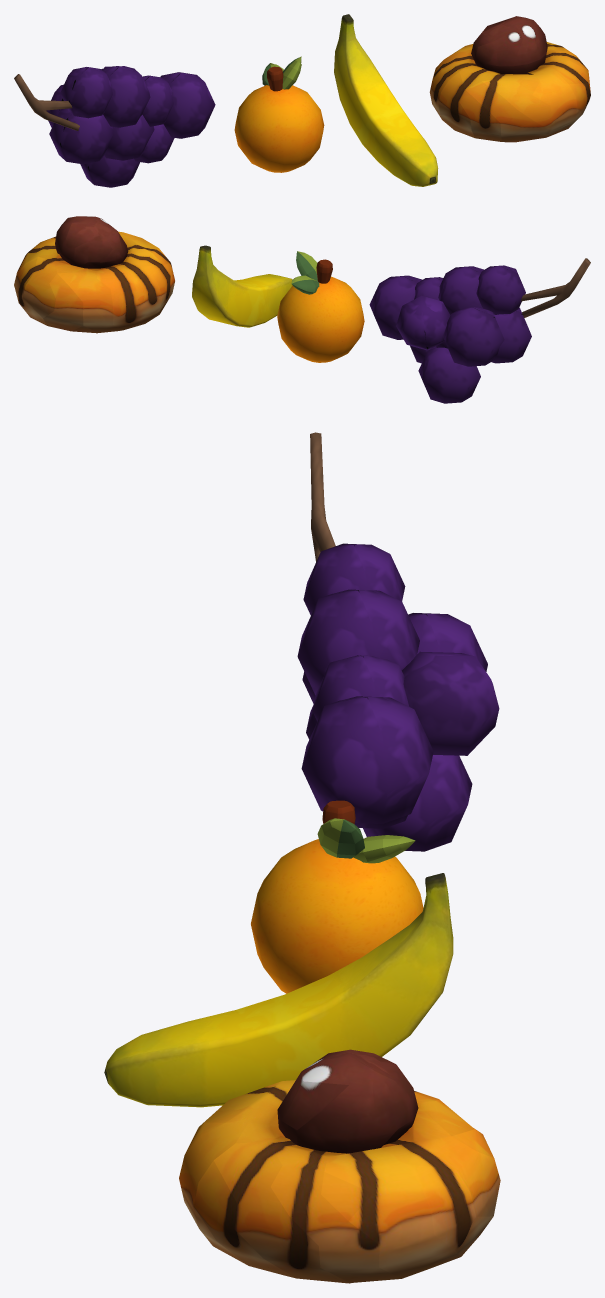
File: fruit.fbx
The picture shows the model from 3 angles, top to bottom: view 1: azimuth 30°, elevation 25°; view 2: azimuth 150°, elevation 25°; view 3: azimuth 270°, elevation 25°; orthographic projection. The views are drawn at different scales.
Parts seen in each view (by area): view 1: grapeShape, model_0:Mesh, Banana, Orange1; view 2: grapeShape, model_0:Mesh, Orange1, Banana; view 3: model_0:Mesh, grapeShape, Banana, Orange1.
Part boxes in pixels (x1,y1,x2,y2): grapeShape: (14,66,215,187); model_0:Mesh: (429,16,590,142); Banana: (334,14,438,186); Orange1: (234,56,324,172); grapeShape: (369,258,590,403); model_0:Mesh: (14,216,174,333); Orange1: (277,251,364,362); Banana: (192,245,292,327); model_0:Mesh: (179,1049,500,1283); grapeShape: (297,432,499,851); Banana: (104,873,453,1107); Orange1: (251,800,423,993).
Bounding box in the file's own units: 11.58 × 3.3 × 3.56.
5 materials, 5 textured.
